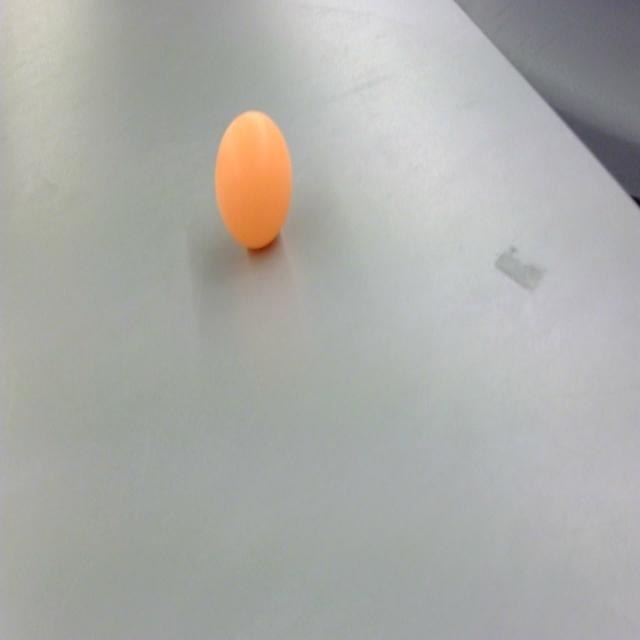ball: (214, 110, 292, 260)
